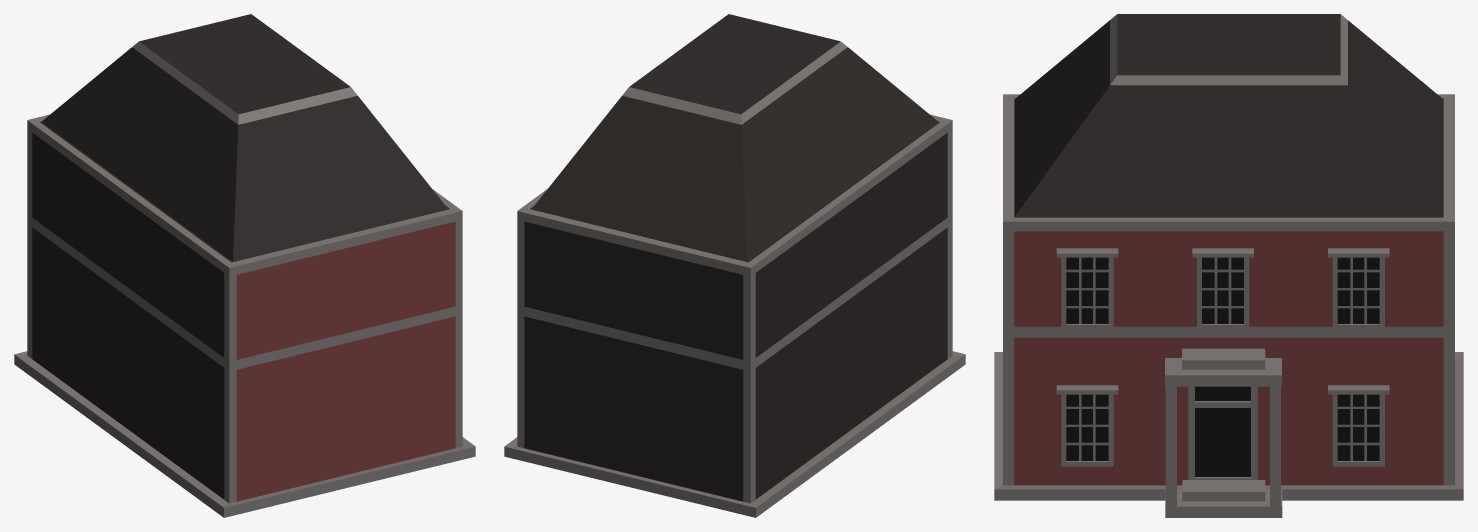
The model's file is Rumah_Kecil.fbx.
The picture shows the model from 3 angles, left to right: view 1: azimuth 30°, elevation 25°; view 2: azimuth 150°, elevation 25°; view 3: azimuth 270°, elevation 25°; orthographic projection. The views are drawn at different scales.
Parts seen in each view (by area): view 1: Cube; view 2: Cube; view 3: Cube.
Boxes of the visible parts, box(x1,y1,x2,y2) form: Cube: box(14, 14, 475, 517); Cube: box(504, 14, 965, 517); Cube: box(994, 14, 1463, 517).
Bounding box in the file's own units: 486 × 567 × 623.
